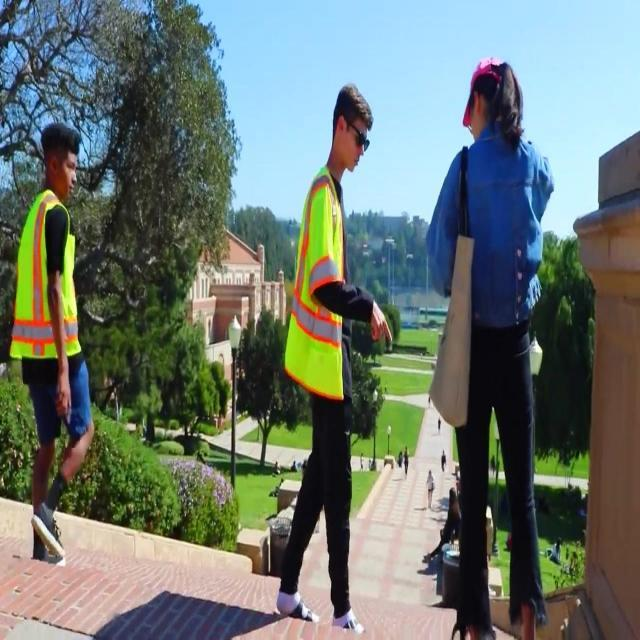NoHelmet: (328, 86, 379, 177), (40, 121, 85, 194)
NoVest: (444, 139, 555, 327)
Vest: (9, 196, 85, 361)
